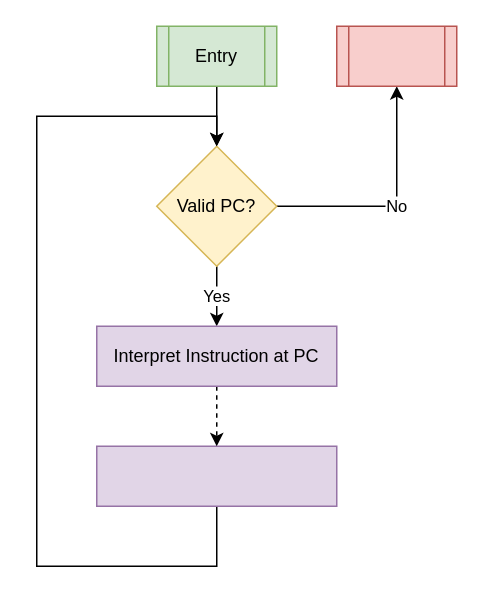
This 483x605 diagram has some shape labels left out. Here are the shapes that lost their labels. From the top down, the centre of each, then its label:
point 396,55: Exit
point 216,475: Increment PC
